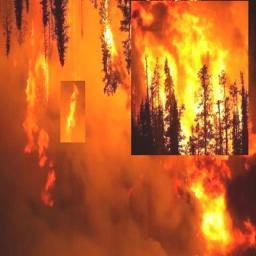Heavy smoke: (7, 179, 174, 255)
Large fire: (0, 0, 130, 173), (132, 0, 246, 155), (178, 163, 253, 248)
